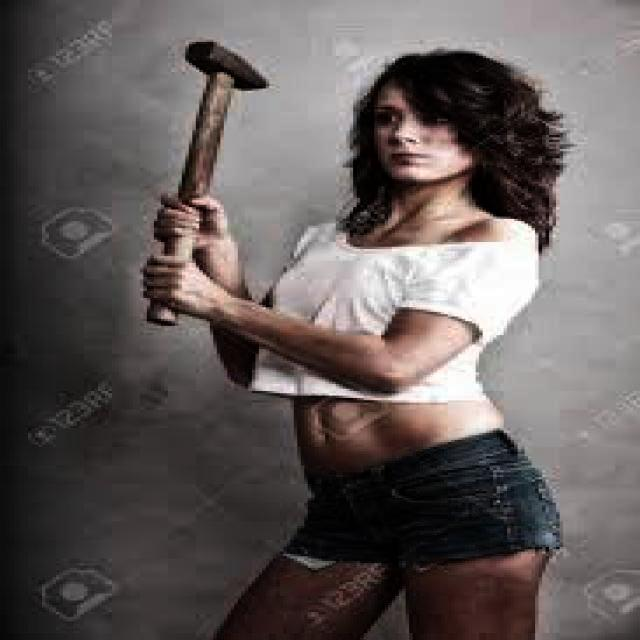hammer: (124, 32, 282, 332)
